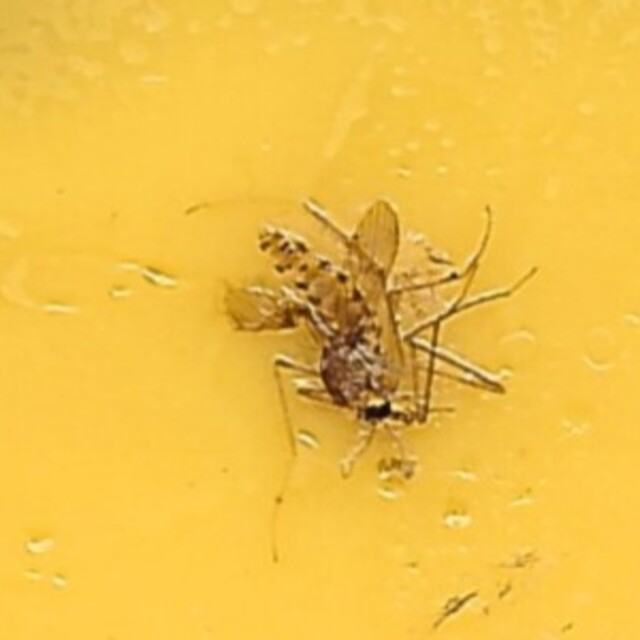Nematocera: (213, 199, 427, 441)
